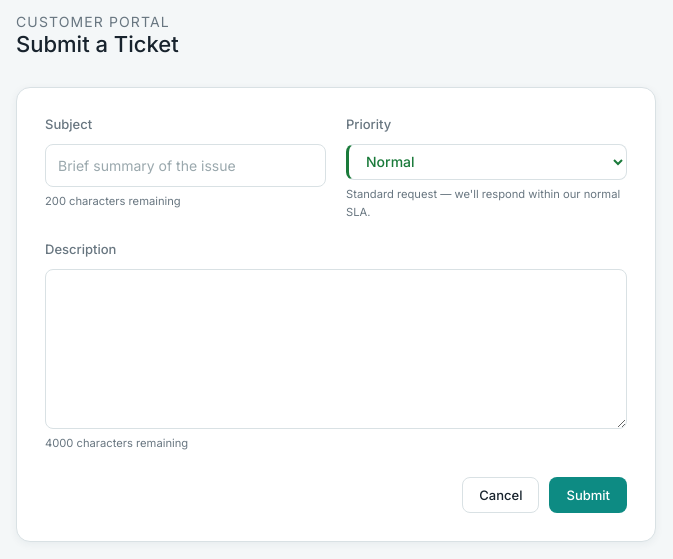
Test: PortalTicketCreateView › shows a required error when the description is empty
Type "Cannot log in" into the field labelled "Subject" at point(186, 165), box [45, 144, 326, 187]
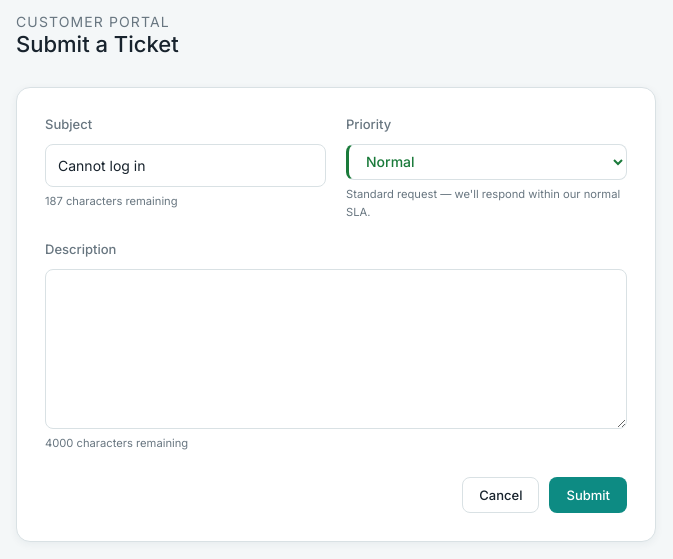
Submit the form
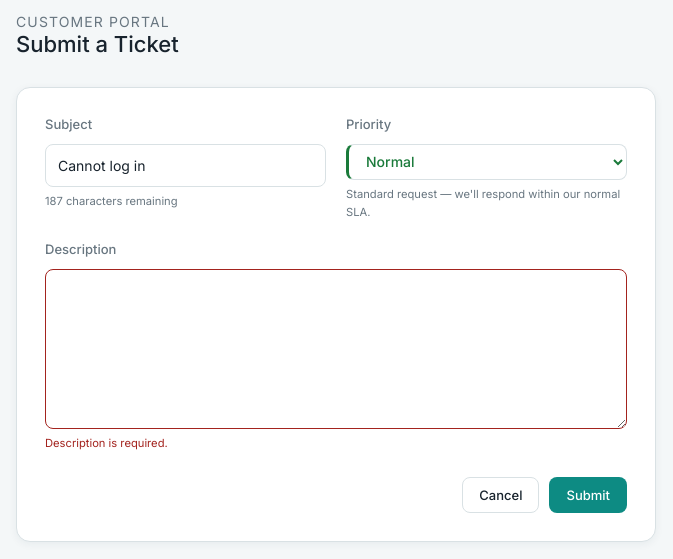
Expected: the message "Description is required." is shown, [45, 436, 168, 450]
